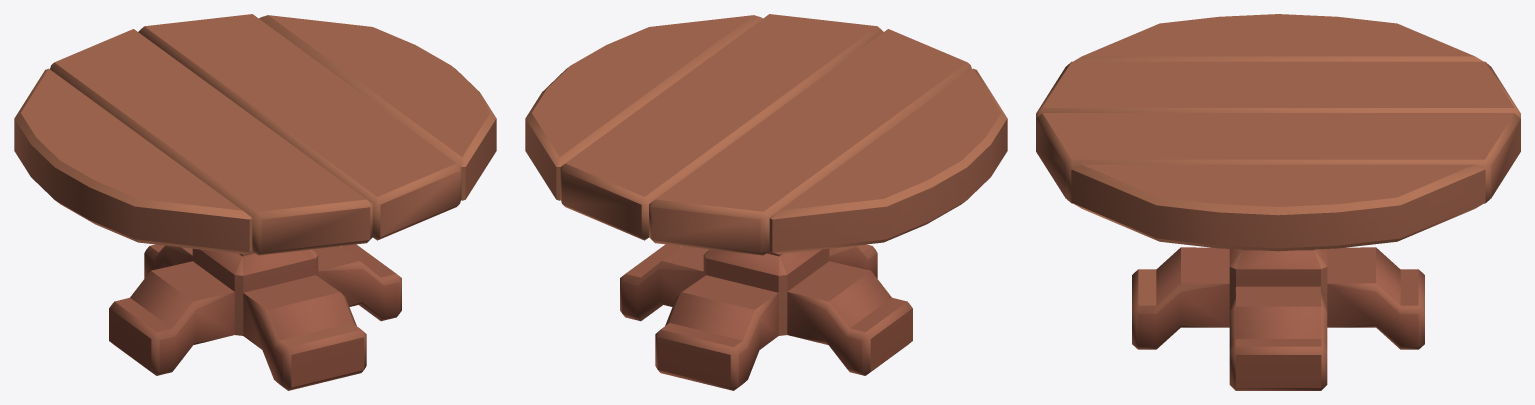
File: table_round_medium.glb
3 views of the same model, side by side, from view 1: azimuth 30°, elevation 25°; view 2: azimuth 150°, elevation 25°; view 3: azimuth 270°, elevation 25° (orthographic).
Parts seen in each view (by area): view 1: table_round_medium; view 2: table_round_medium; view 3: table_round_medium.
Boxes of the visible parts, <box> form: table_round_medium: <box>14,14,496,390</box>; table_round_medium: <box>525,14,1007,390</box>; table_round_medium: <box>1036,14,1520,390</box>.
Size of the model in its own units: 1.92 by 1 by 1.99.
Materials: 1 (1 with a texture image).
